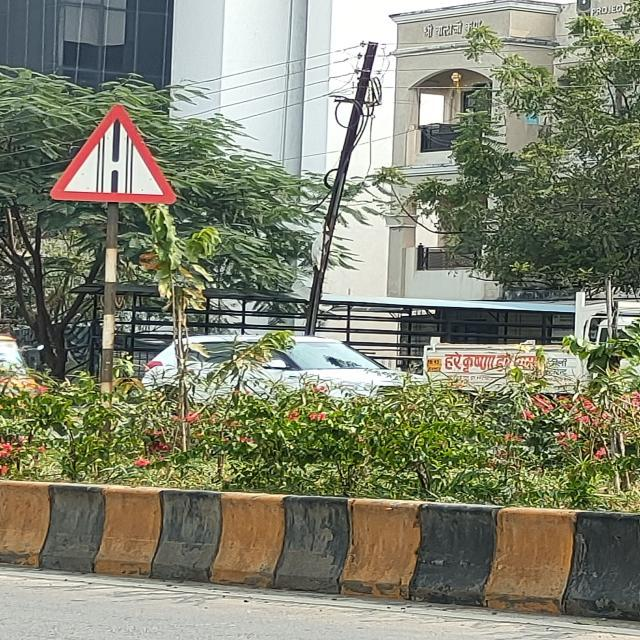gap in median: (50, 98, 175, 203)
